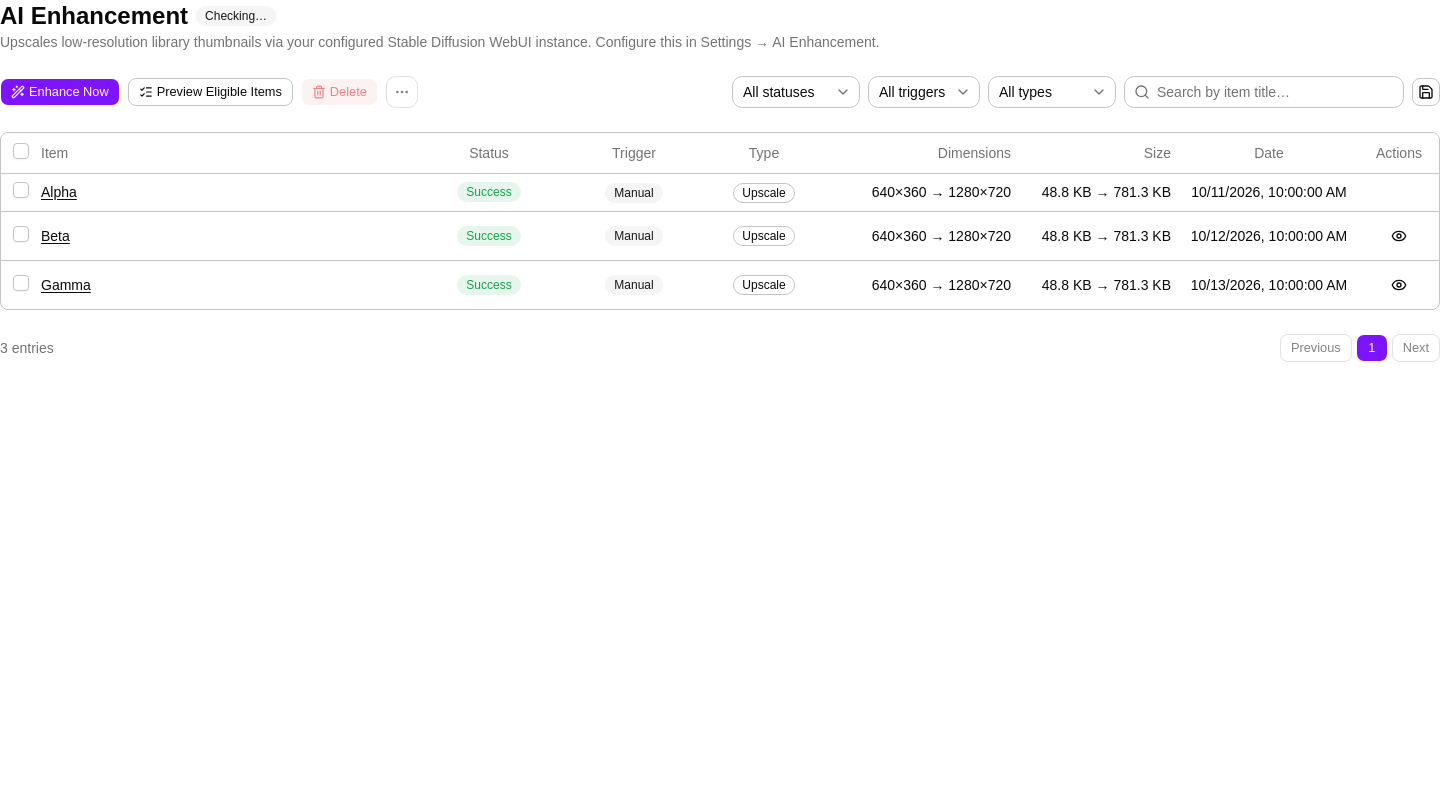
Scenario: ThumbnailEnhancementPage table › Compare opens the dialog for that entry
expect the link "Alpha" is shown: met, box [41,184,77,200]
Click the button without text in the row of "Gamma".
click(1399, 284)  # box [1383,268,1415,300]
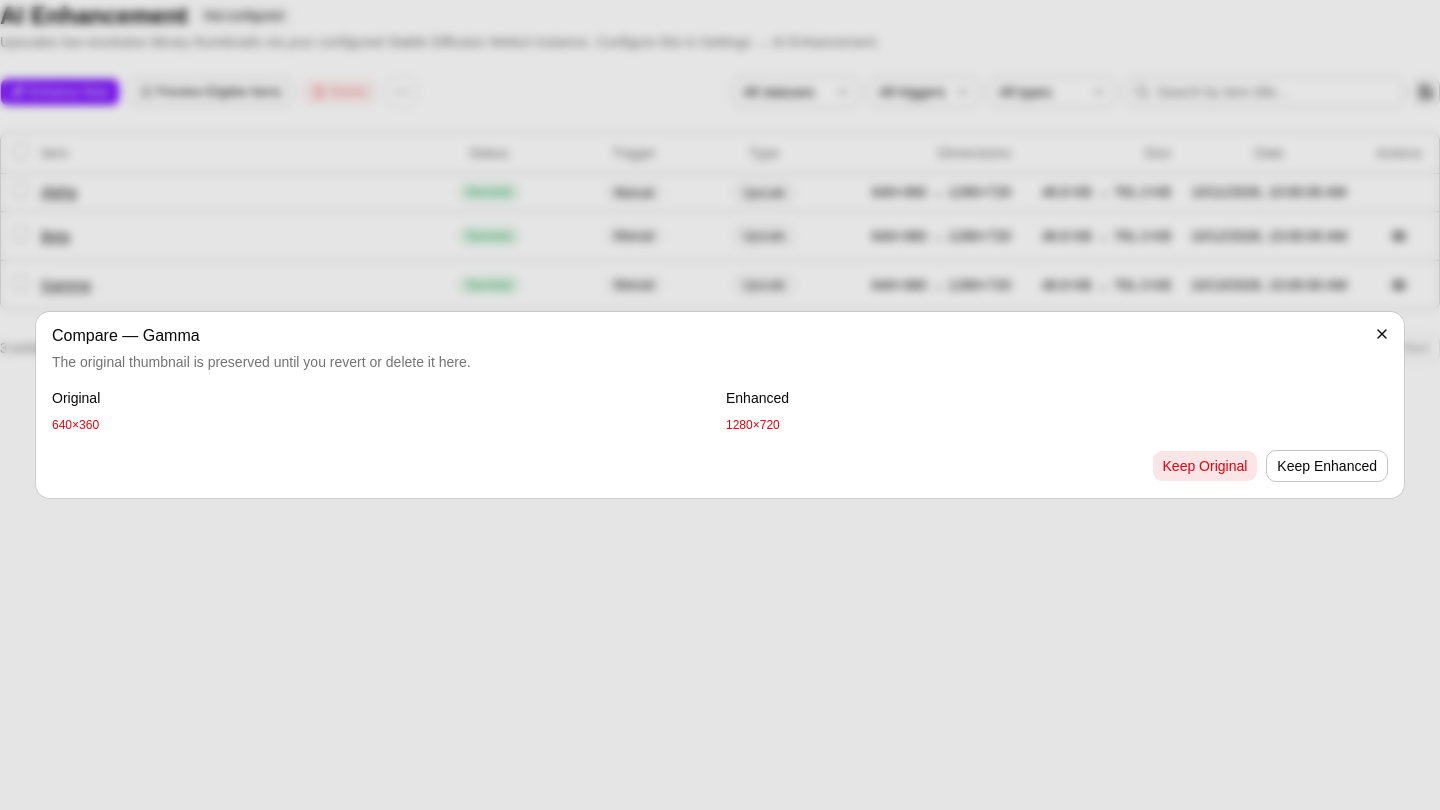
expect the heading "Compare — Gamma" is shown: met, box [52,327,200,344]
